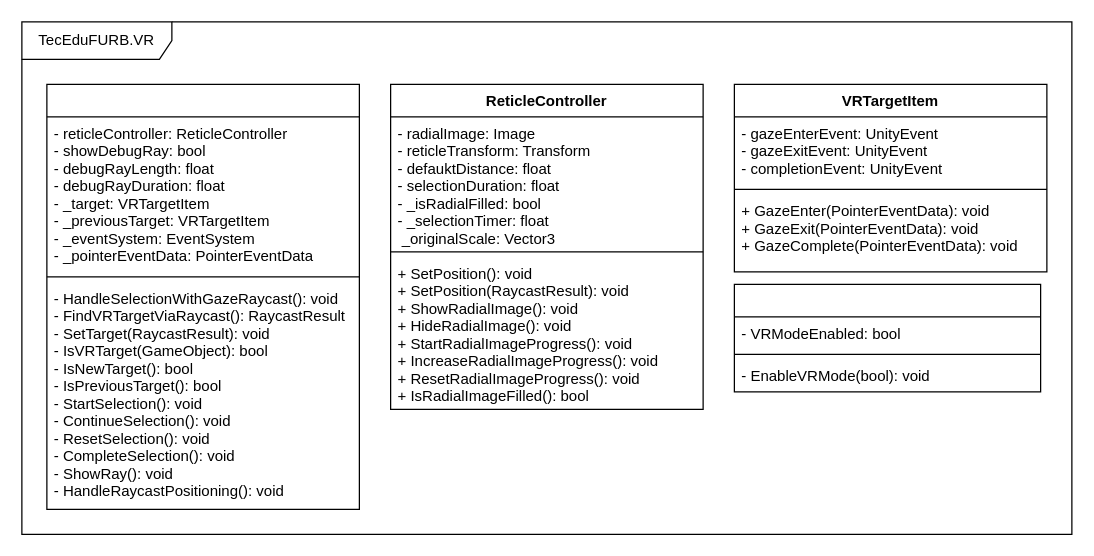
Image size: 1094x556. Some labels were removed from this diagram. The box of each missing label's shape, as (x1, y1, x2, y2) in pixels:
SceneMode: (733, 283, 1041, 392)
VRGazeController: (46, 83, 359, 509)
